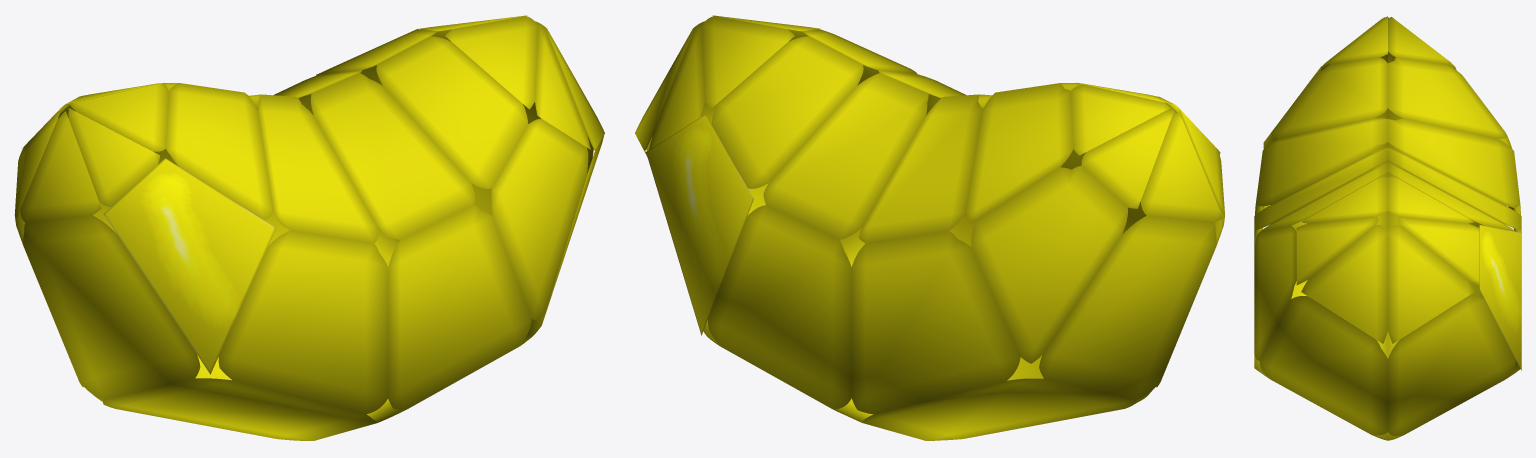
3 renders of one model, left to right at view 1: azimuth 30°, elevation 25°; view 2: azimuth 150°, elevation 25°; view 3: azimuth 270°, elevation 25°, orthographic. The views are drawn at different scales.
Visible parts, largest first — view 1: T1L1M008_10; view 2: T1L1M008_10; view 3: T1L1M008_10.
Part boxes in pixels (x1,y1,x2,y2): T1L1M008_10: [14, 15, 604, 440]; T1L1M008_10: [635, 15, 1224, 440]; T1L1M008_10: [1254, 16, 1521, 440].
Size of the model in its own units: 0.5615 by 0.3604 by 0.2793.
